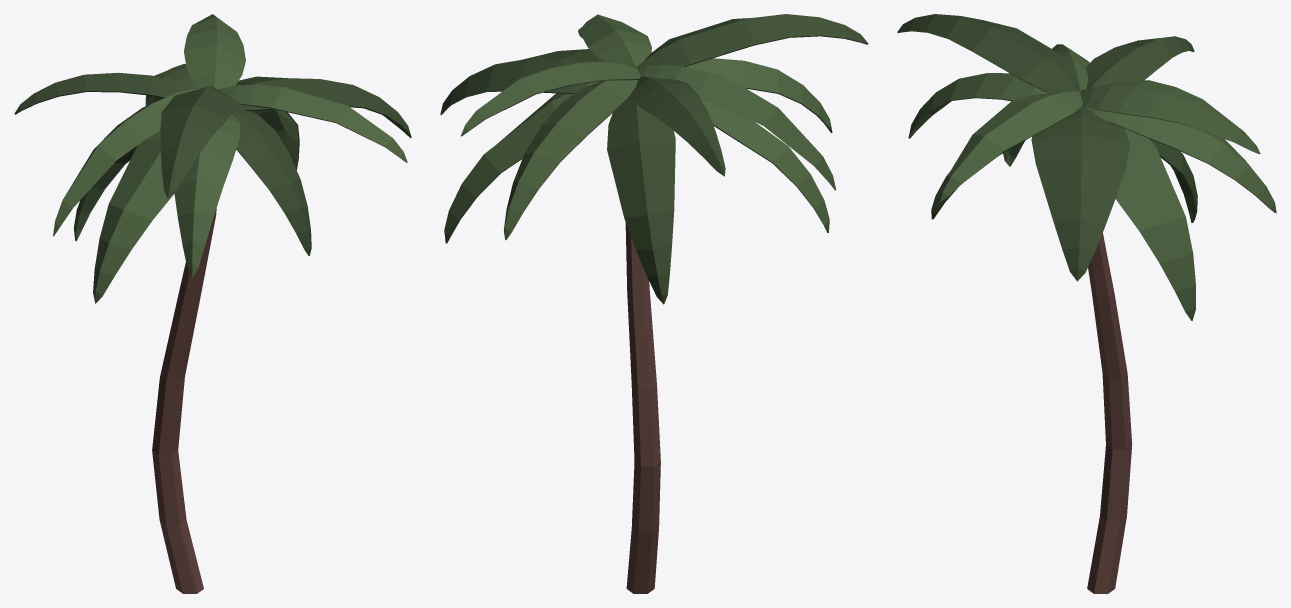
File: palm3.glb
The picture shows the model from 3 angles, left to right: view 1: azimuth 30°, elevation 25°; view 2: azimuth 150°, elevation 25°; view 3: azimuth 270°, elevation 25°; orthographic projection.
Visible parts, largest first — view 1: PalmTree_3; view 2: PalmTree_3; view 3: PalmTree_3.
Part boxes in pixels (x1,y1,x2,y2): PalmTree_3: (14,14,411,593); PalmTree_3: (440,14,868,593); PalmTree_3: (897,14,1276,593).
Size of the model in its own units: 2.88 by 3.93 by 2.51.
